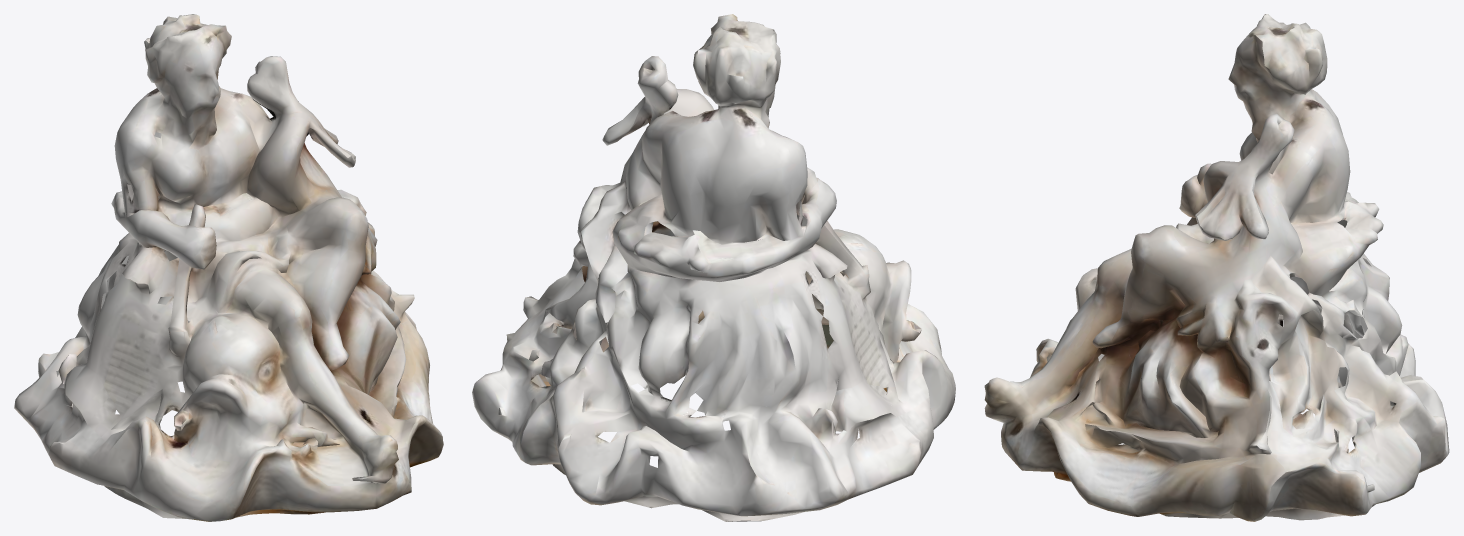
The model's file is neptune-2017.74.31.1.glb.
The picture shows the model from 3 angles, left to right: view 1: azimuth 30°, elevation 25°; view 2: azimuth 150°, elevation 25°; view 3: azimuth 270°, elevation 25°; orthographic projection. The views are drawn at different scales.
Parts seen in each view (by area): view 1: Mesh; view 2: Mesh; view 3: Mesh.
Part boxes in pixels (x1,y1,x2,y2): Mesh: (14, 14, 443, 521); Mesh: (472, 14, 955, 521); Mesh: (984, 14, 1449, 521).
Bounding box in the file's own units: 0.2817 × 0.298 × 0.2992.
1 material, 1 textured.
